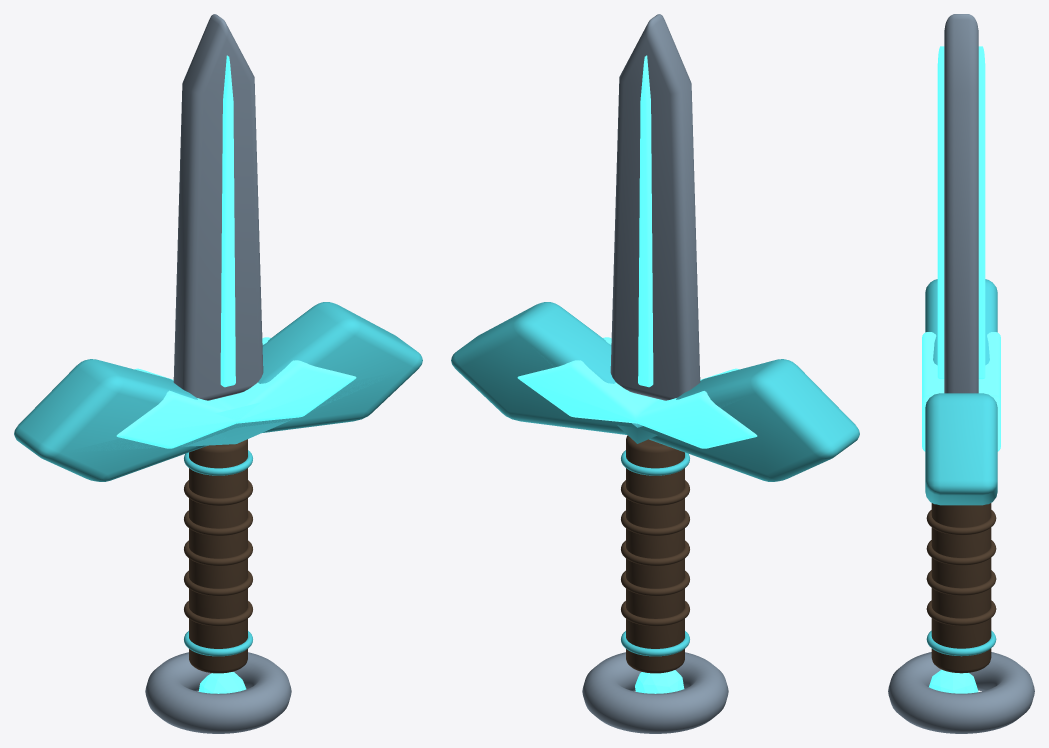
The model's file is dagger.glb.
The picture shows the model from 3 angles, left to right: view 1: azimuth 30°, elevation 25°; view 2: azimuth 150°, elevation 25°; view 3: azimuth 270°, elevation 25°; orthographic projection.
Parts seen in each view (by area): view 1: WINGED_GUARD_ACCENT, FACETED_BLADE_PRIMARY, GRIP_SECONDARY, GUARD_INLAY_EMISSIVE, RING_POMMEL_PRIMARY, BLADE_FULLER_EMISSIVE, POMMEL_GEM_EMISSIVE; view 2: WINGED_GUARD_ACCENT, FACETED_BLADE_PRIMARY, GRIP_SECONDARY, GUARD_INLAY_EMISSIVE, RING_POMMEL_PRIMARY, BLADE_FULLER_EMISSIVE, POMMEL_GEM_EMISSIVE; view 3: FACETED_BLADE_PRIMARY, WINGED_GUARD_ACCENT, RING_POMMEL_PRIMARY, GRIP_SECONDARY, BLADE_FULLER_EMISSIVE, GUARD_INLAY_EMISSIVE, POMMEL_GEM_EMISSIVE, GRIP_WRAP_SECONDARY.003, GRIP_WRAP_SECONDARY.002, GRIP_WRAP_ACCENT, GRIP_WRAP_SECONDARY.001, GRIP_WRAP_SECONDARY.
Boxes of the visible parts, box(x1,y1,x2,y2) form: WINGED_GUARD_ACCENT: box(14, 302, 422, 481); FACETED_BLADE_PRIMARY: box(173, 14, 263, 400); GRIP_SECONDARY: box(189, 439, 247, 673); GUARD_INLAY_EMISSIVE: box(116, 337, 356, 448); RING_POMMEL_PRIMARY: box(145, 652, 291, 733); BLADE_FULLER_EMISSIVE: box(220, 55, 235, 387); POMMEL_GEM_EMISSIVE: box(198, 672, 246, 693); WINGED_GUARD_ACCENT: box(451, 302, 859, 481); FACETED_BLADE_PRIMARY: box(610, 14, 700, 400); GRIP_SECONDARY: box(626, 435, 684, 673); GUARD_INLAY_EMISSIVE: box(517, 337, 757, 448); RING_POMMEL_PRIMARY: box(582, 652, 728, 733); BLADE_FULLER_EMISSIVE: box(638, 55, 653, 387); POMMEL_GEM_EMISSIVE: box(635, 670, 684, 693); FACETED_BLADE_PRIMARY: box(944, 14, 978, 393); WINGED_GUARD_ACCENT: box(925, 279, 997, 505); RING_POMMEL_PRIMARY: box(888, 652, 1034, 733); GRIP_SECONDARY: box(931, 503, 991, 673); BLADE_FULLER_EMISSIVE: box(937, 46, 985, 379); GUARD_INLAY_EMISSIVE: box(922, 332, 1000, 451); POMMEL_GEM_EMISSIVE: box(929, 669, 978, 693); GRIP_WRAP_SECONDARY.003: box(926, 510, 996, 535); GRIP_WRAP_SECONDARY.002: box(926, 540, 996, 565); GRIP_WRAP_ACCENT: box(926, 630, 996, 656); GRIP_WRAP_SECONDARY.001: box(926, 570, 996, 595); GRIP_WRAP_SECONDARY: box(926, 600, 996, 625).
Bounding box in the file's own units: 1.63 × 2.83 × 0.5382.
